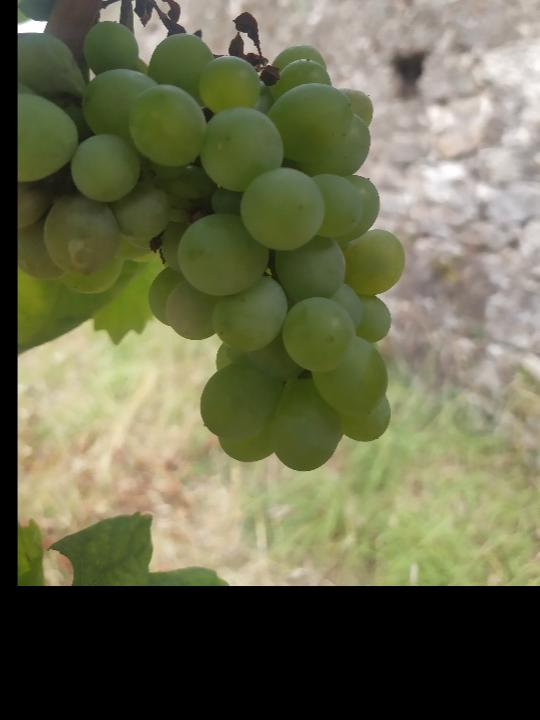grape: (18, 0, 409, 478)
